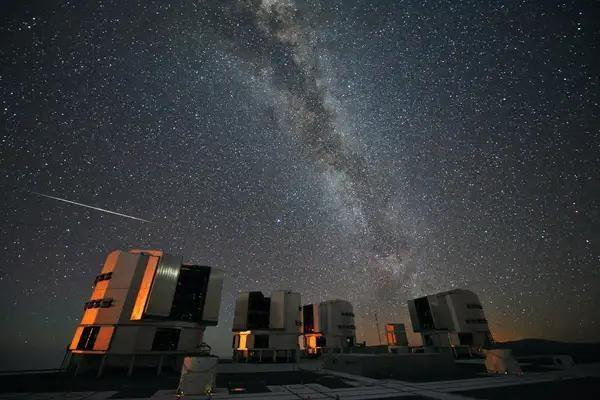meteorite: (24, 187, 164, 226)
